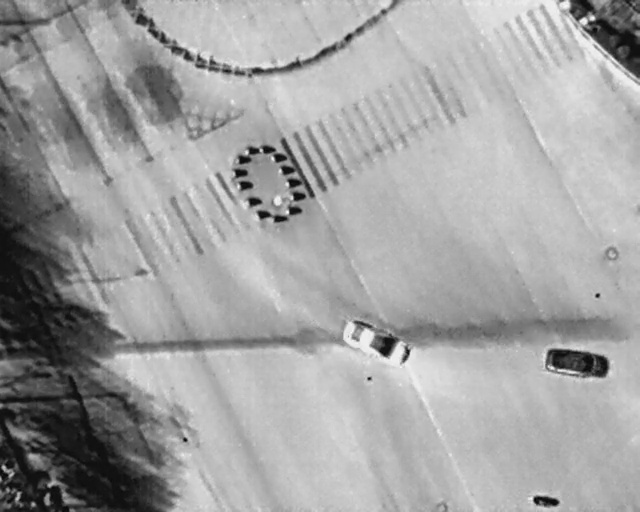Bicycle: (534, 495, 561, 507)
Car: (337, 315, 415, 372), (544, 347, 612, 381)
